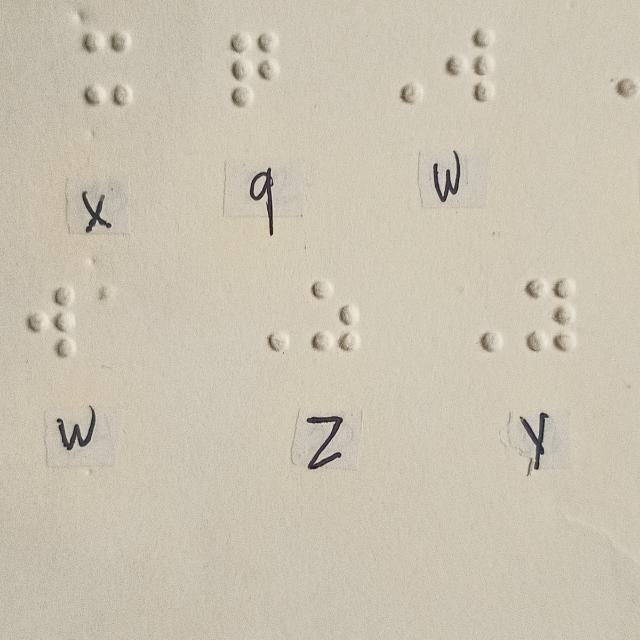W: (445, 29, 493, 107)
Y: (526, 279, 575, 353)
Z: (312, 278, 360, 352)
capital: (375, 28, 424, 106), (456, 279, 505, 353), (244, 279, 292, 353)
q: (229, 30, 277, 108)
w: (26, 285, 75, 358)
x: (84, 31, 133, 106)
